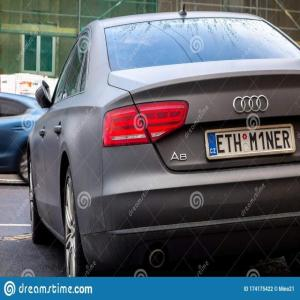Plate: (205, 124, 296, 159)
